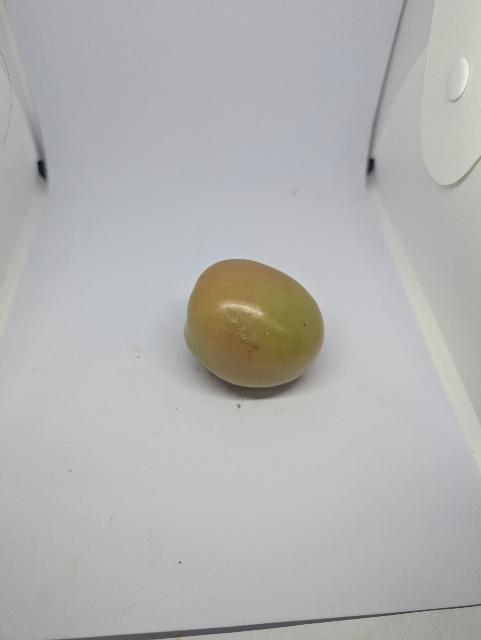breaker: (185, 259, 325, 388)
